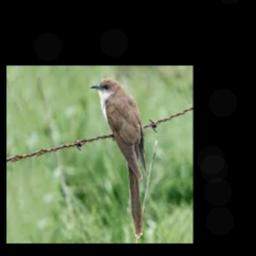Cuckoo: (89, 78, 146, 239)
